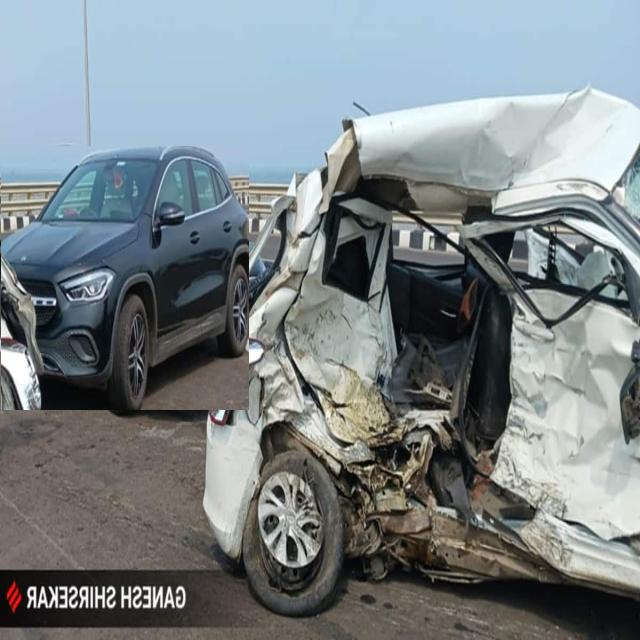accident: (204, 88, 640, 614)
car: (0, 146, 249, 410)
